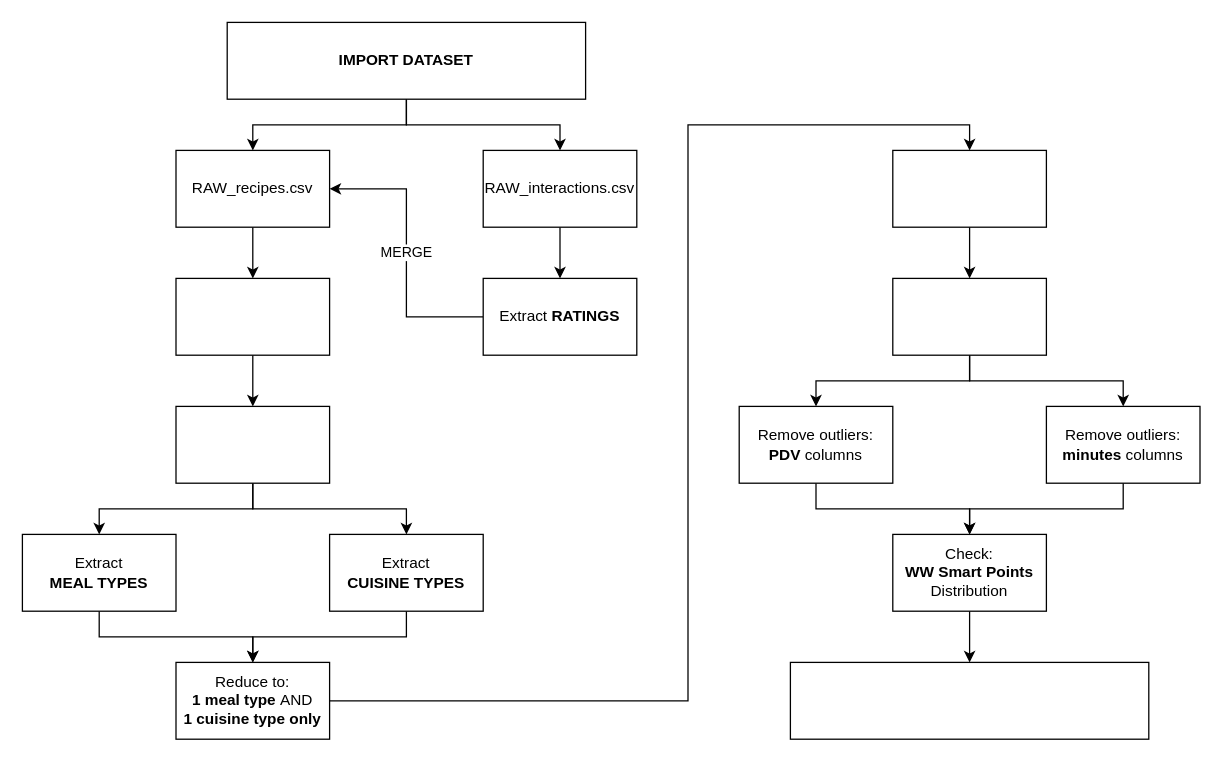
This 1222x762 diagram has some shape labels left out. The box of each missing label's shape, as (x1, y1, x2, y2) in pixels:
Calculate: WW Smart Points: (892, 277, 1046, 355)
CLEAN DATASET: (789, 661, 1149, 739)
Convert `nutrition` column to nutritional values: (892, 149, 1046, 227)
Parse TAGS column: (175, 405, 330, 483)
Remove DUPLICATE IDs: (175, 277, 330, 355)
